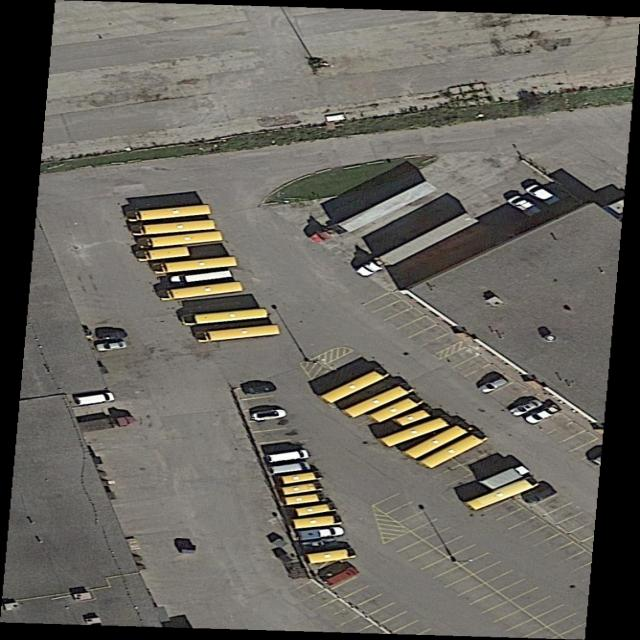large-vehicle: (309, 181, 438, 245), (355, 213, 480, 278), (320, 367, 392, 404), (403, 422, 474, 459), (464, 476, 540, 510), (421, 432, 490, 469), (344, 383, 415, 418), (380, 416, 454, 448), (195, 324, 282, 344), (152, 255, 239, 275), (57, 415, 138, 436), (159, 281, 244, 301), (139, 231, 224, 250), (182, 308, 269, 326), (126, 204, 213, 222), (478, 462, 533, 490), (131, 220, 217, 237), (370, 396, 424, 423), (169, 269, 235, 285), (305, 546, 358, 565), (291, 513, 345, 529), (136, 247, 191, 262), (296, 501, 339, 517), (283, 491, 328, 505), (278, 471, 325, 484), (280, 482, 326, 495)
small-vehicle: (522, 402, 566, 427), (523, 183, 564, 207), (503, 194, 544, 218), (506, 397, 545, 418), (322, 566, 360, 587), (298, 525, 345, 541), (521, 485, 560, 504), (74, 391, 119, 407), (475, 376, 511, 396), (267, 460, 313, 475), (264, 448, 310, 463), (248, 407, 289, 423), (240, 383, 278, 397), (94, 340, 129, 352), (97, 330, 131, 342)
